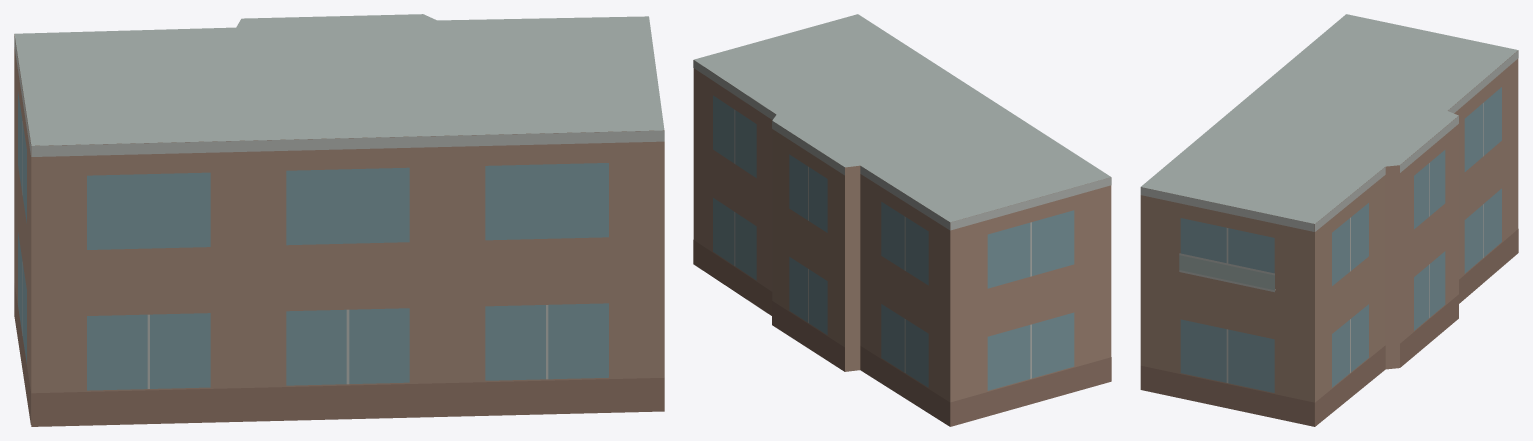
The model's file is survey-upis-32673349.glb.
3 renders of one model, left to right at view 1: azimuth 30°, elevation 25°; view 2: azimuth 150°, elevation 25°; view 3: azimuth 270°, elevation 25°, orthographic. The views are drawn at different scales.
Visible parts, largest first — view 1: survey-upis-32673349.tmp; view 2: survey-upis-32673349.tmp; view 3: survey-upis-32673349.tmp.
Part boxes in pixels (x1,y1,x2,y2): survey-upis-32673349.tmp: (14,14,664,426); survey-upis-32673349.tmp: (693,14,1111,426); survey-upis-32673349.tmp: (1140,14,1518,426).
Bounding box in the file's own units: 13.55 × 6.1 × 10.31.
